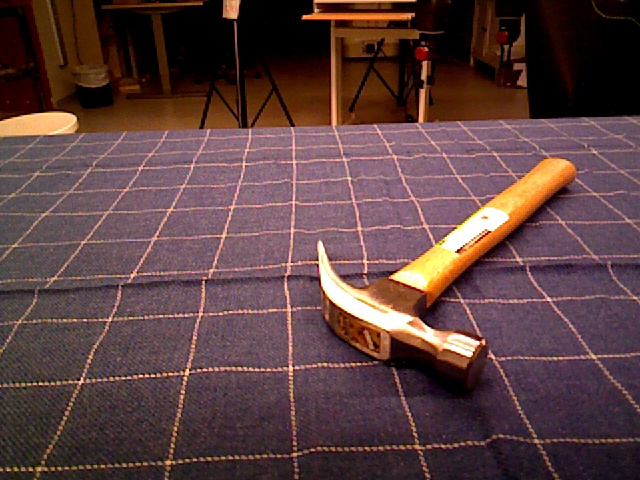hammer1: (316, 158, 581, 394)
